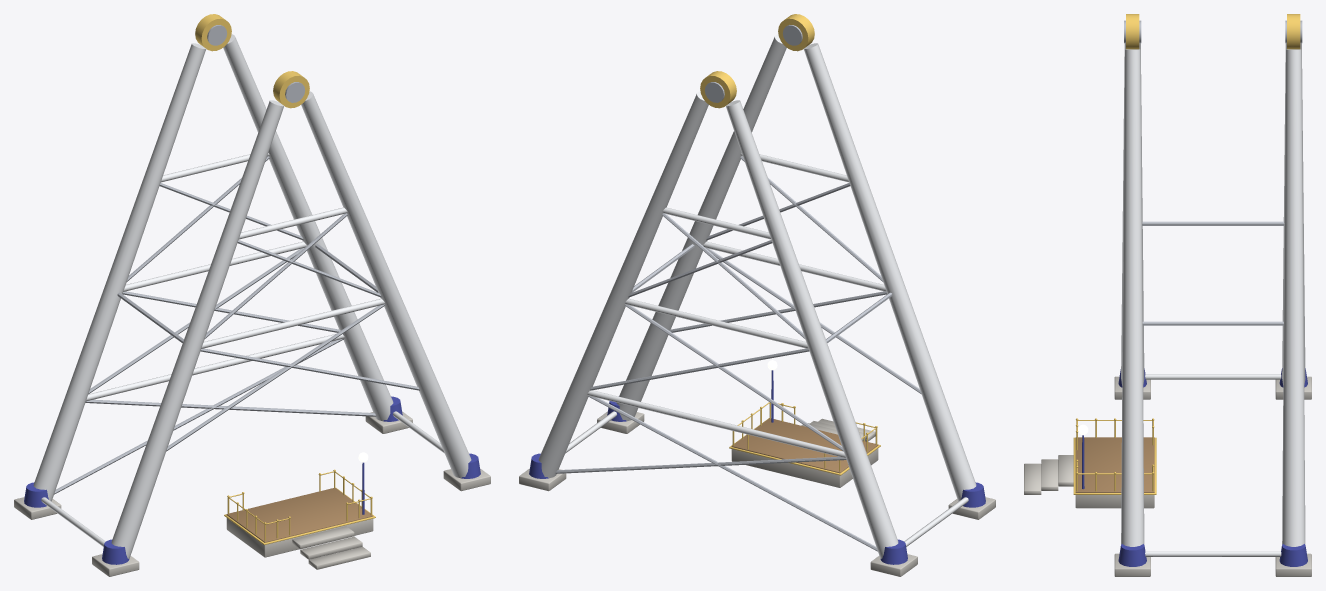
The model's file is wheel_frame.glb.
3 renders of one model, left to right at view 1: azimuth 30°, elevation 25°; view 2: azimuth 150°, elevation 25°; view 3: azimuth 270°, elevation 25°, orthographic. The views are drawn at different scales.
Visible parts, largest first — view 1: wheel_frame; view 2: wheel_frame; view 3: wheel_frame.
Boxes of the visible parts, <box> form: wheel_frame: <box>14,14,490,576</box>; wheel_frame: <box>519,14,995,576</box>; wheel_frame: <box>1024,14,1311,576</box>.
Bounding box in the file's own units: 23.9 × 26.98 × 15.1.
